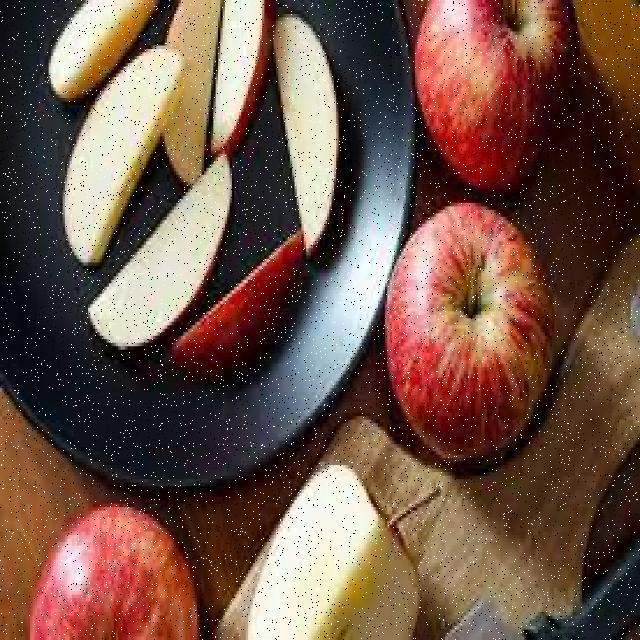Apple: (385, 200, 554, 463), (251, 458, 438, 640), (413, 1, 580, 190), (48, 48, 188, 260), (96, 152, 226, 335), (29, 505, 198, 640), (174, 222, 299, 380), (272, 12, 346, 247), (216, 0, 269, 147), (174, 0, 211, 175), (46, 1, 111, 97)
